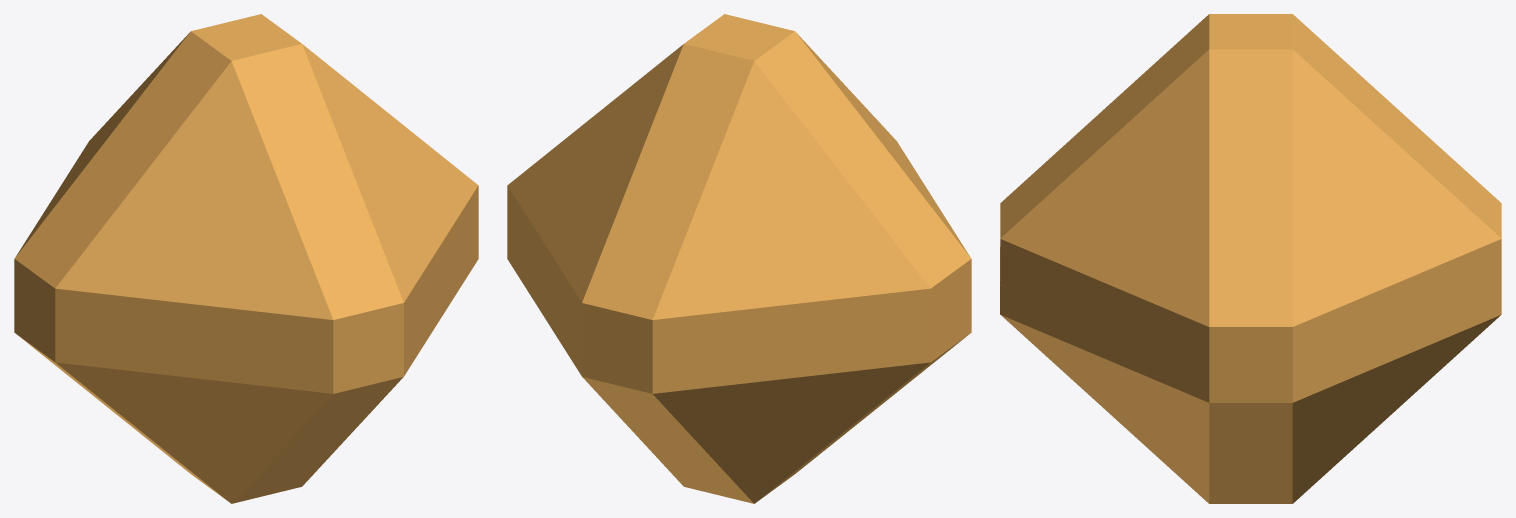
File: Gem_03.fbx
3 renders of one model, left to right at view 1: azimuth 30°, elevation 25°; view 2: azimuth 150°, elevation 25°; view 3: azimuth 270°, elevation 25°, orthographic. The views are drawn at different scales.
Parts seen in each view (by area): view 1: Gem_03; view 2: Gem_03; view 3: Gem_03.
Boxes of the visible parts, box(x1,y1,x2,y2) form: Gem_03: box(14, 14, 478, 503); Gem_03: box(507, 14, 971, 503); Gem_03: box(1000, 14, 1501, 503).
Bounding box in the file's own units: 270 × 270 × 270.
